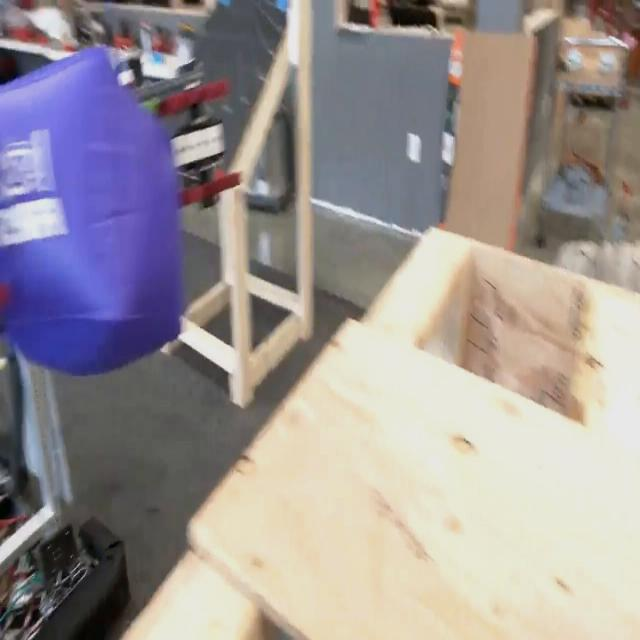frc_cube: (0, 55, 176, 374)
